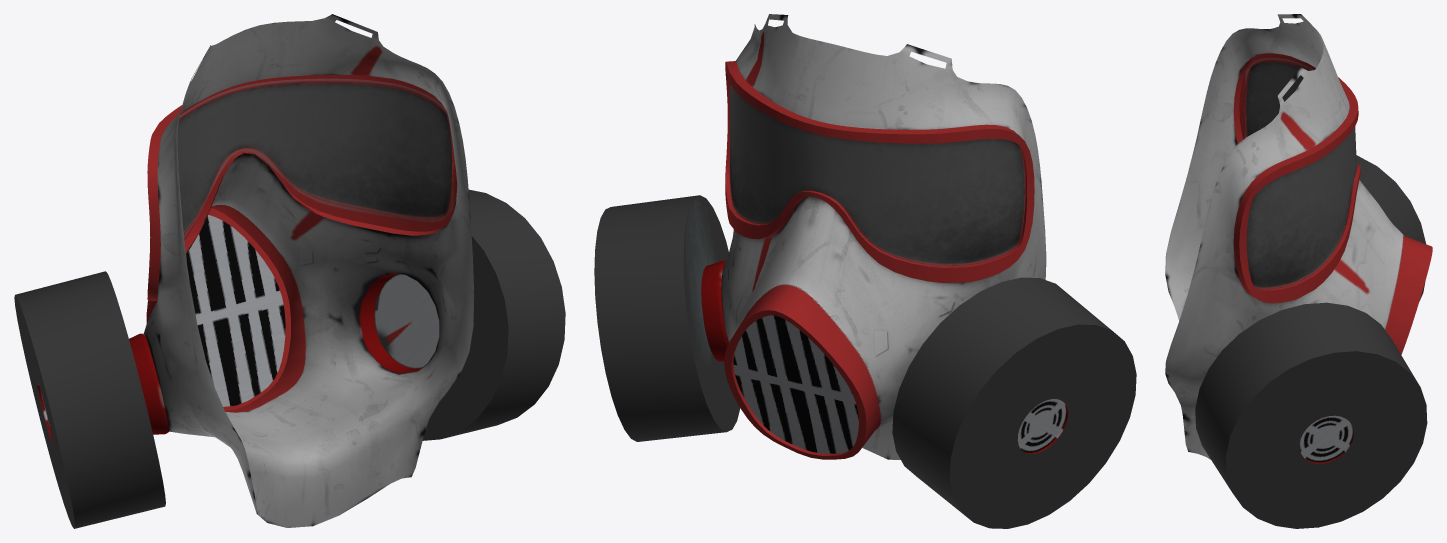
The model's file is gasMask4.gltf.
3 views of the same model, side by side, from view 1: azimuth 30°, elevation 25°; view 2: azimuth 150°, elevation 25°; view 3: azimuth 270°, elevation 25° (orthographic). The views are drawn at different scales.
Visible parts, largest first — view 1: gasMask4; view 2: gasMask4; view 3: gasMask4.
Part boxes in pixels (x1,y1,x2,y2): gasMask4: (14, 14, 565, 528); gasMask4: (594, 14, 1136, 528); gasMask4: (1165, 14, 1432, 528).
Size of the model in its own units: 1.33 by 1.17 by 0.6746.
1 material, 1 textured.
